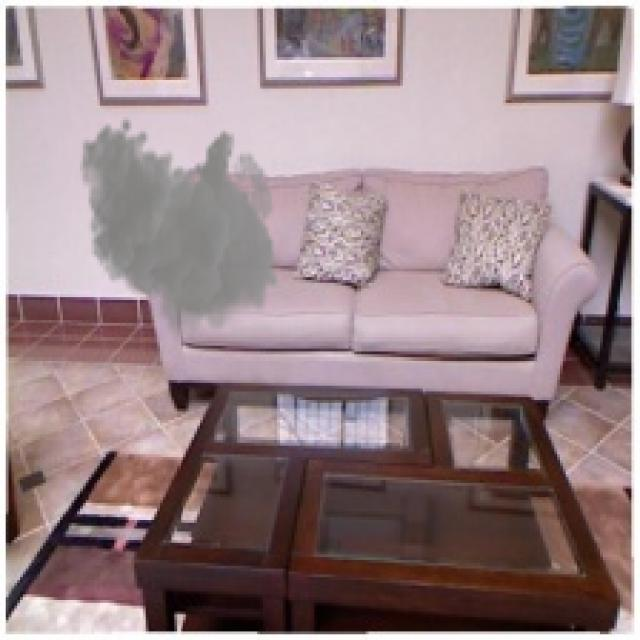smoke: (80, 117, 280, 343)
